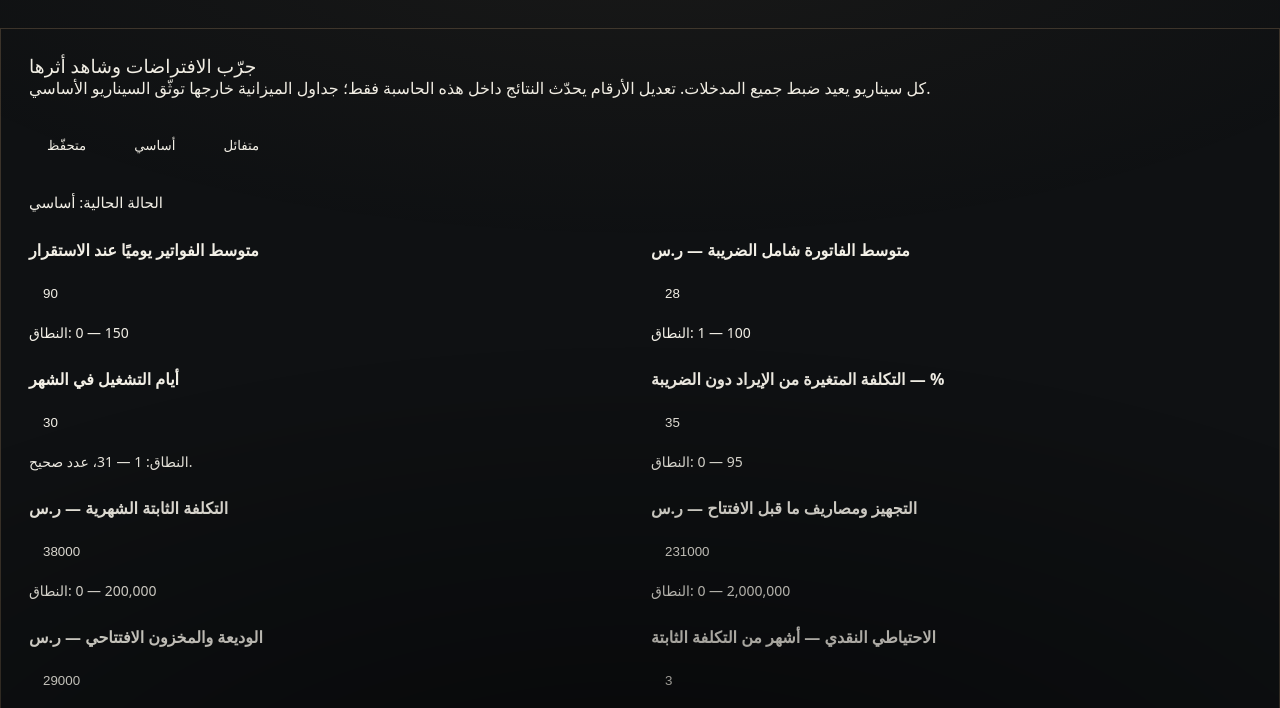
Test: feasibility visitor flow › offers the same accessible calculator and cash table in Arabic
Replace the text in the number field labelled "الاحتياطي النقدي — أشهر من التكلفة الثابتة" with "0" at point(951, 680), box [651,656,1251,704]
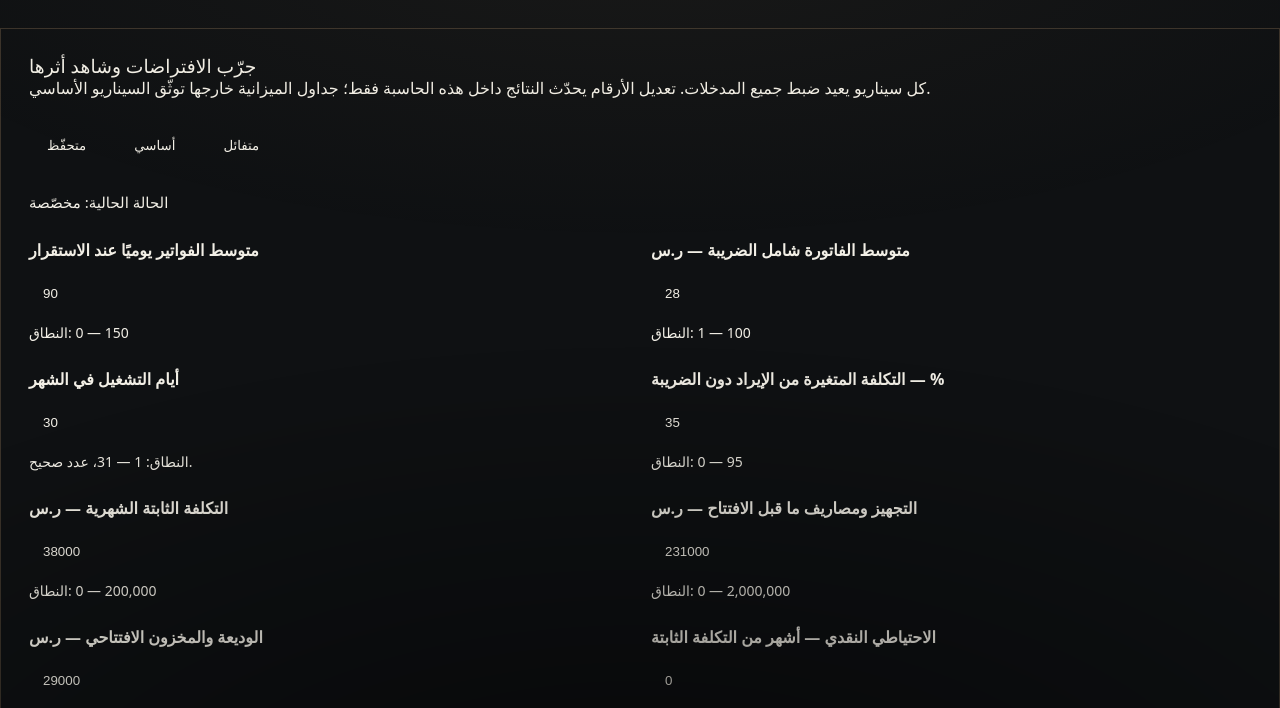
Click the button "أساسي" at point(155, 146), box [116,122,193,170]
(page scrolled)
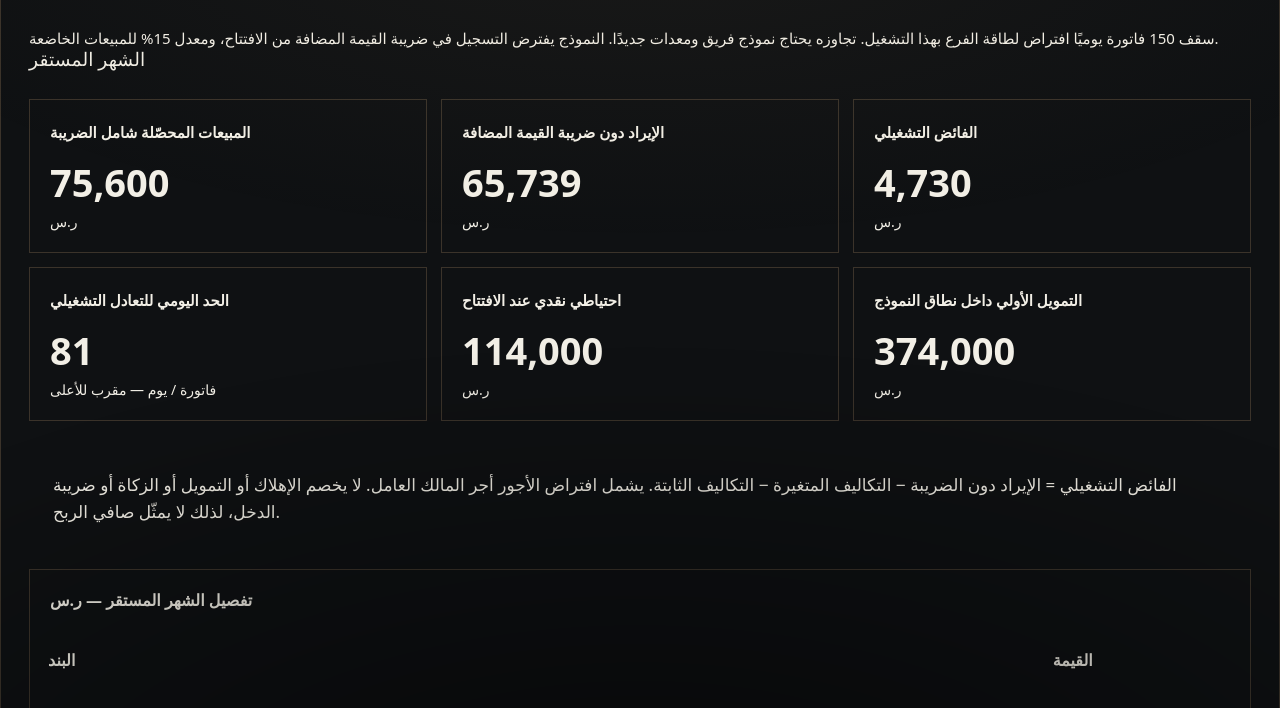
Result: the element with test id "initial-funding" shows "374,000" at [874,324,1015,376]
